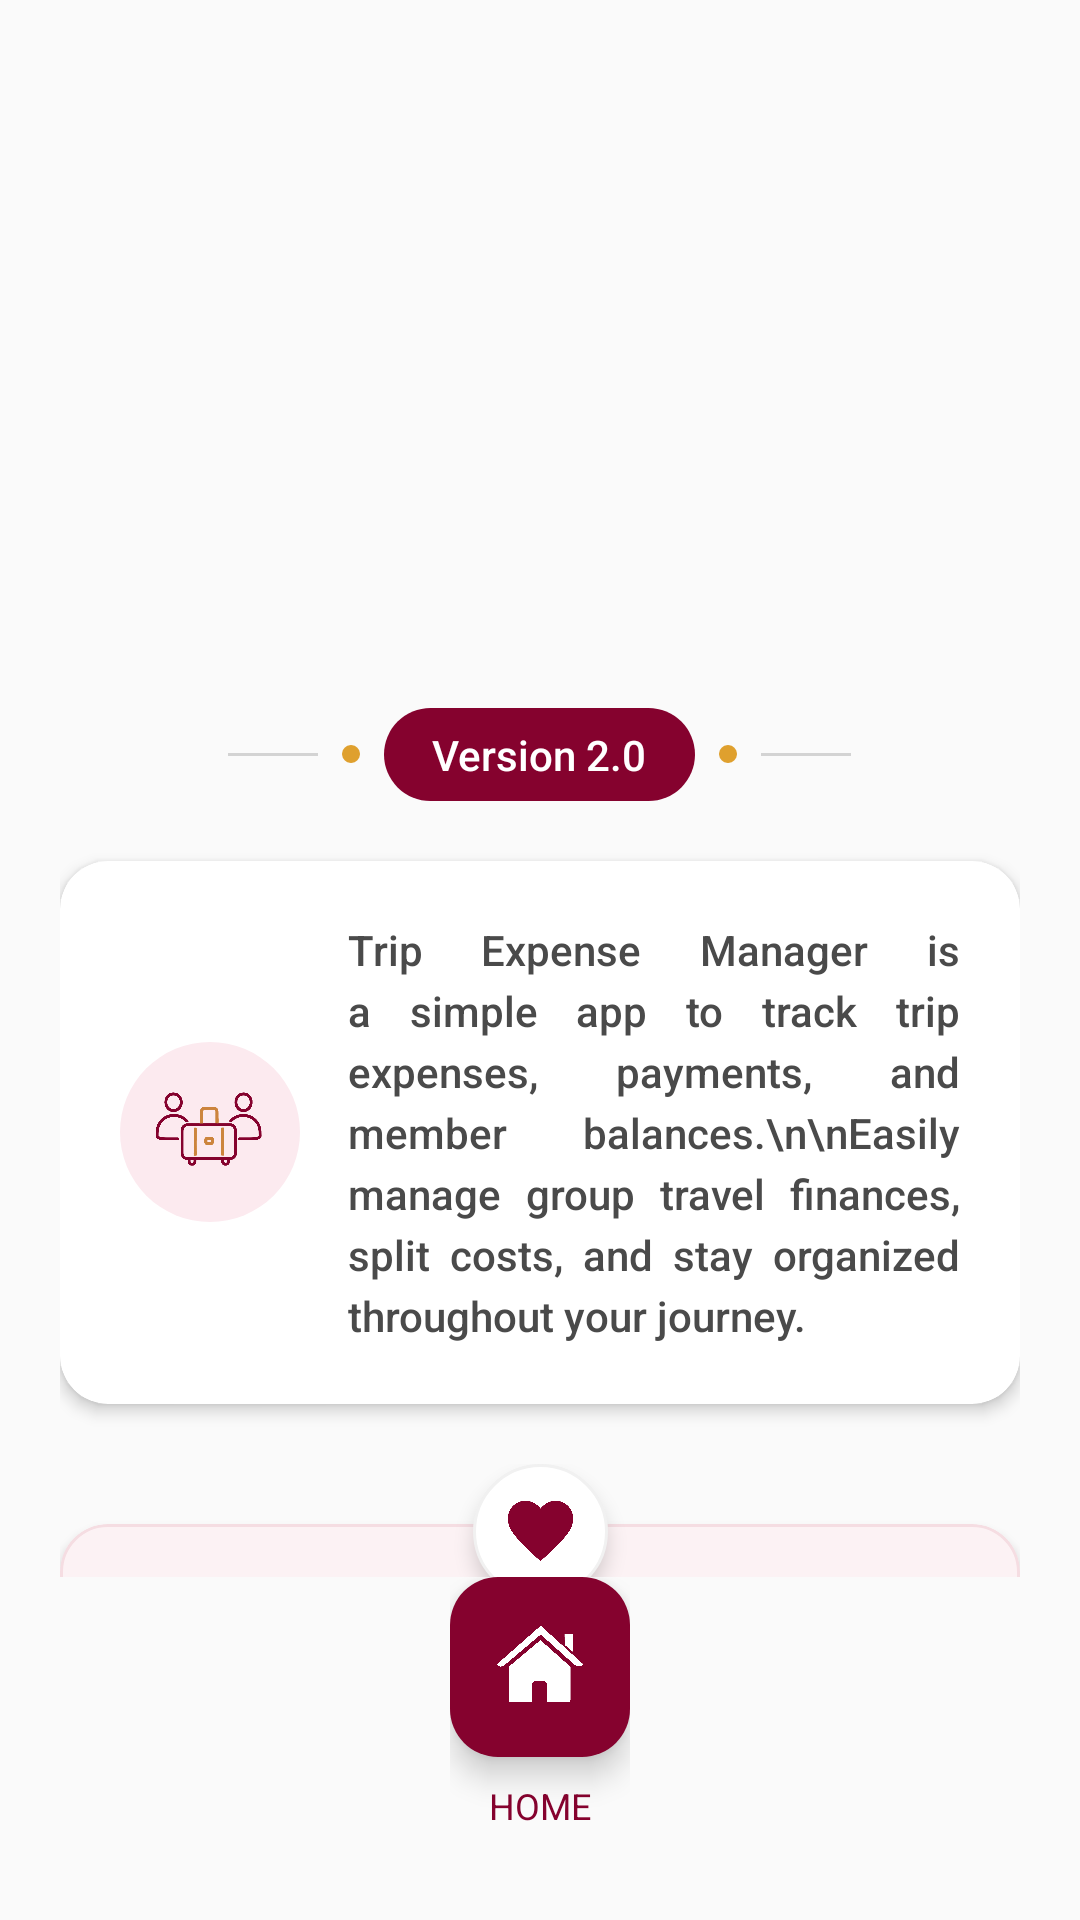

Where icons sit on this 1080px×1920px app screen, as (x1, y1, x2, y2):
trip about: (120, 1042, 300, 1222)
